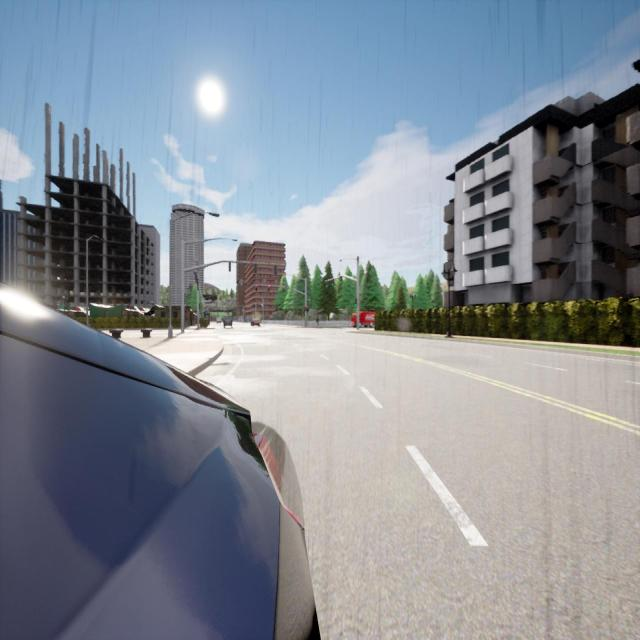Pedestrian: (316, 314, 320, 328)
Vehicle: (0, 288, 318, 640), (351, 310, 376, 328), (223, 316, 233, 328), (251, 318, 260, 326), (216, 317, 222, 324)
traffic_light: (274, 264, 278, 276), (254, 262, 258, 273), (184, 293, 186, 304), (229, 262, 231, 272), (355, 298, 357, 306), (326, 281, 328, 288), (332, 279, 334, 286), (268, 286, 270, 292), (282, 286, 284, 292), (340, 277, 342, 283), (305, 305, 307, 310), (199, 304, 200, 310), (256, 286, 257, 291)
